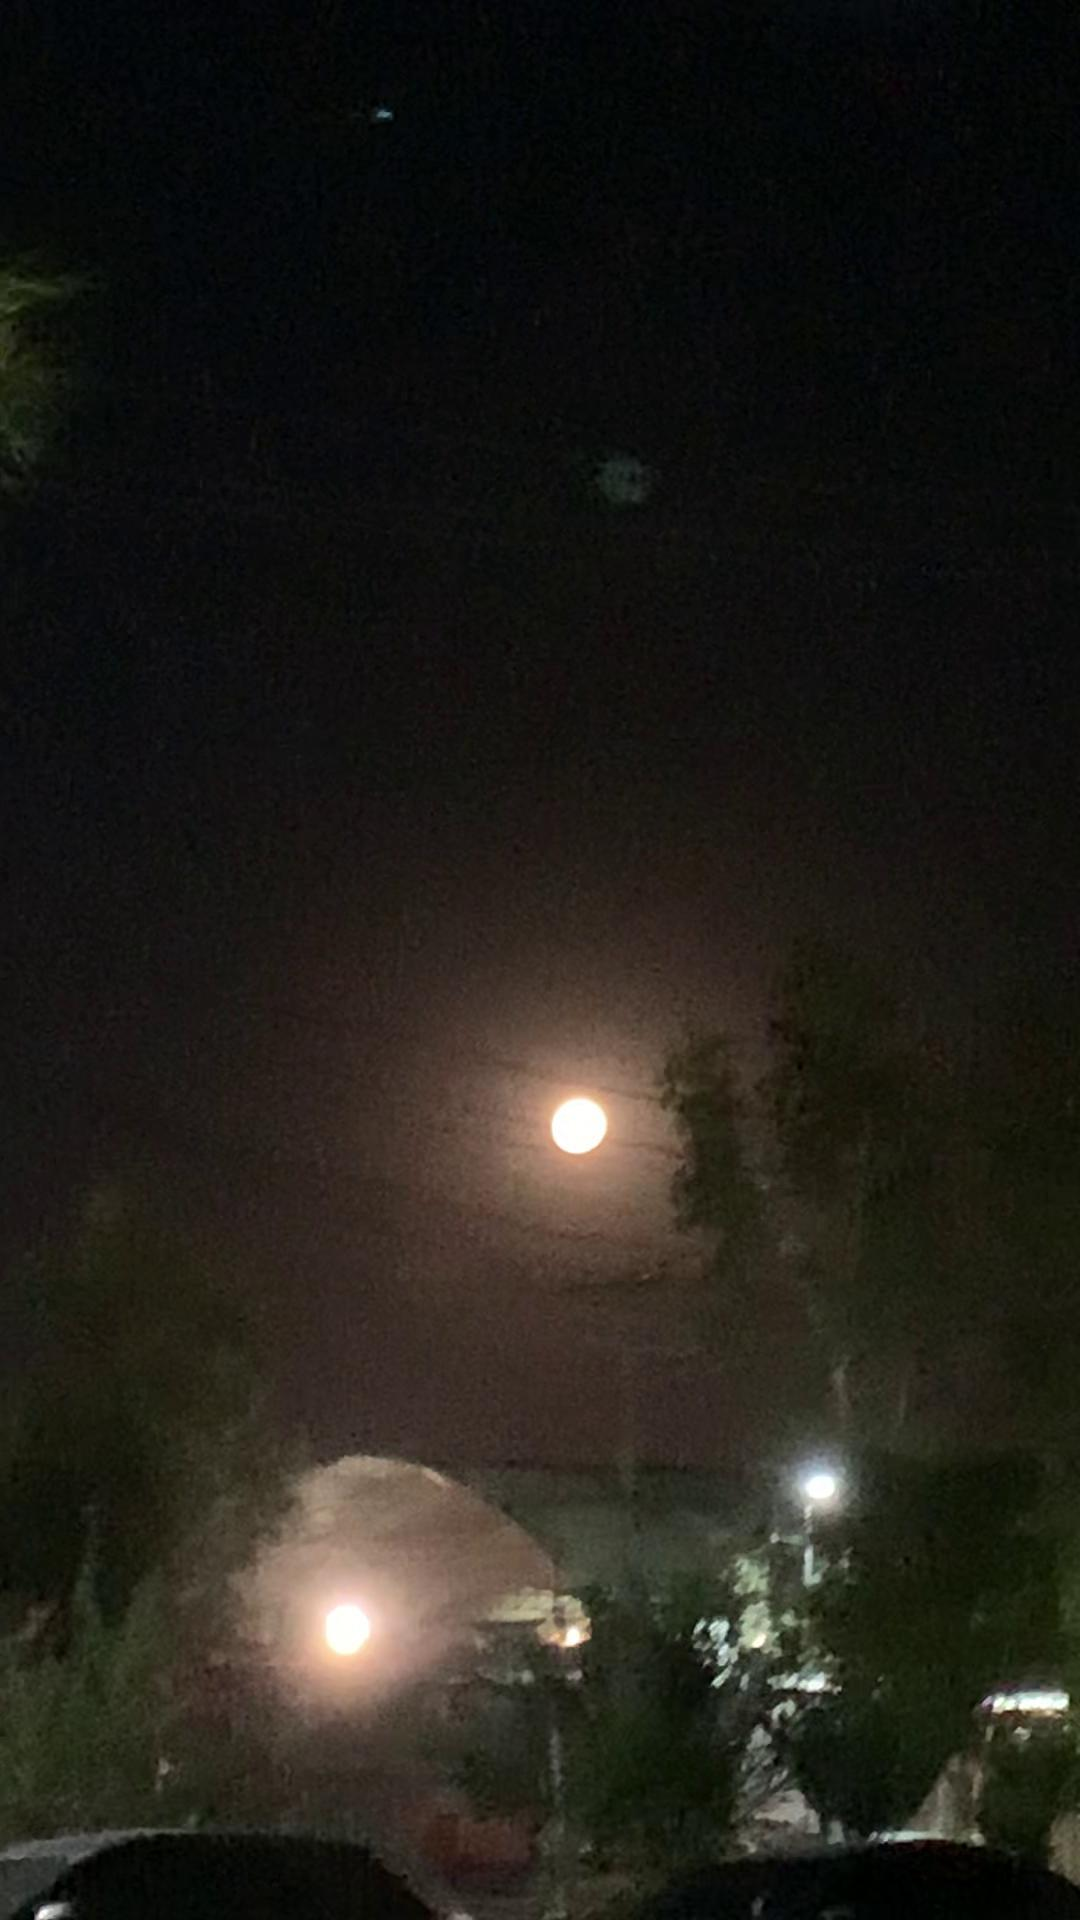moon: (534, 1102, 604, 1175)
